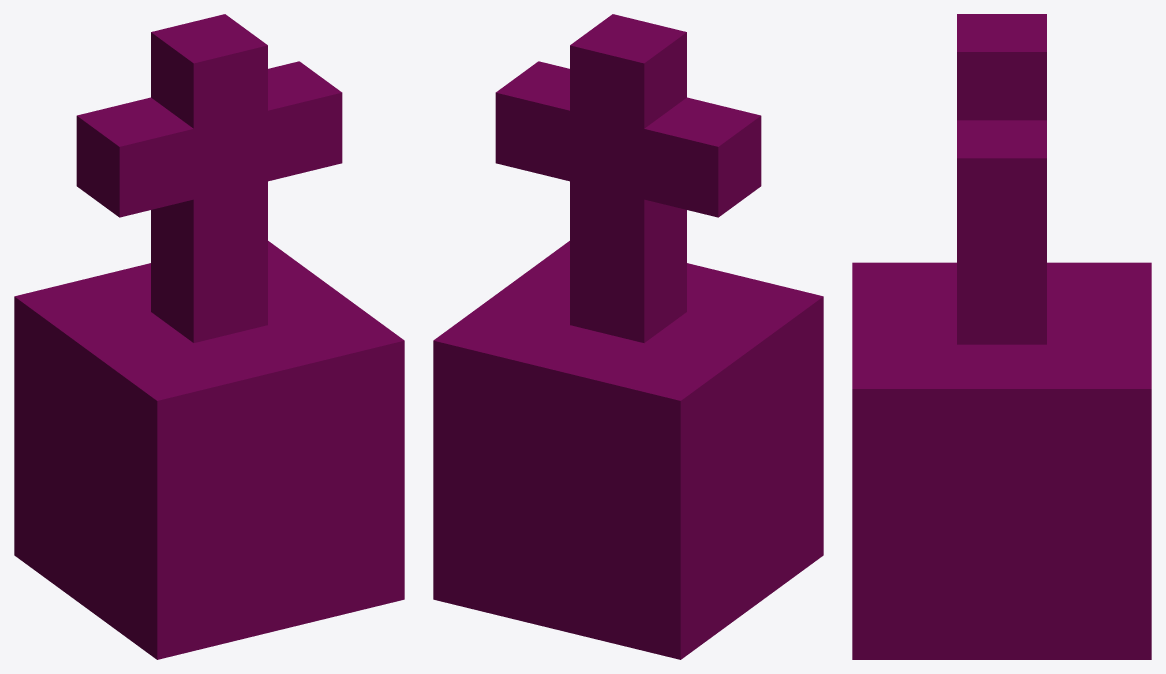
Rendered from purple_church.FBX.
3 views of the same model, side by side, from view 1: azimuth 30°, elevation 25°; view 2: azimuth 150°, elevation 25°; view 3: azimuth 270°, elevation 25° (orthographic). The views are drawn at different scales.
Visible parts, largest first — view 1: Box002; view 2: Box002; view 3: Box002.
Boxes of the visible parts, <box> form: Box002: <box>14,14,404,659</box>; Box002: <box>433,14,823,659</box>; Box002: <box>852,14,1151,659</box>.
Bounding box in the file's own units: 1 × 2.08 × 1.
